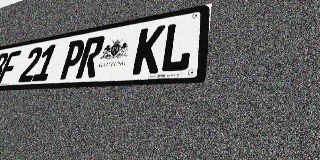1: (31, 44, 59, 82)
2: (18, 46, 44, 82)
B: (0, 52, 10, 85)
F: (0, 50, 22, 84)
K: (131, 25, 166, 75)
L: (159, 19, 195, 73)
P: (57, 39, 87, 80)
R: (75, 35, 106, 79)
